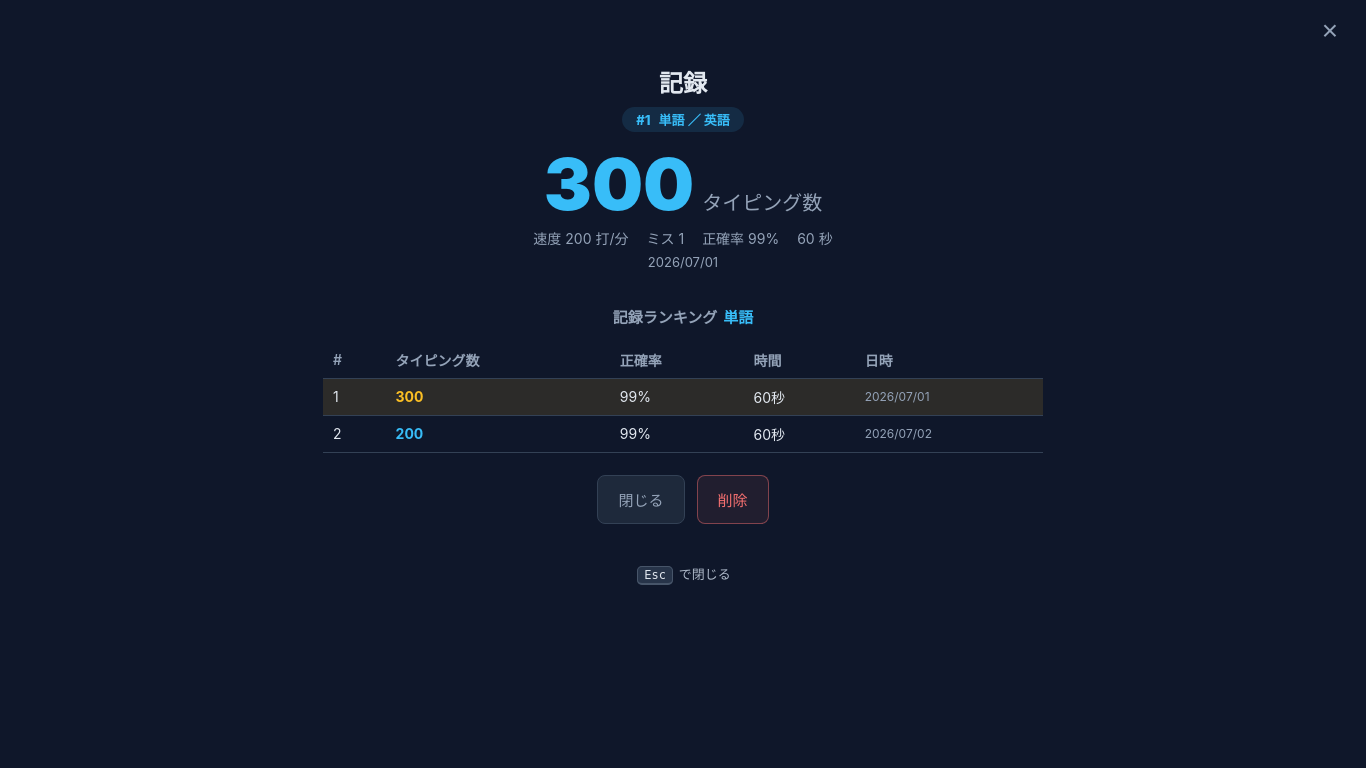
Test: RecordDetail：削除の2段階確認 › 「やめる」で確認状態から抜けられる
Click the button with aria-label "この記録を削除する": (732, 499) [696, 475, 768, 524]
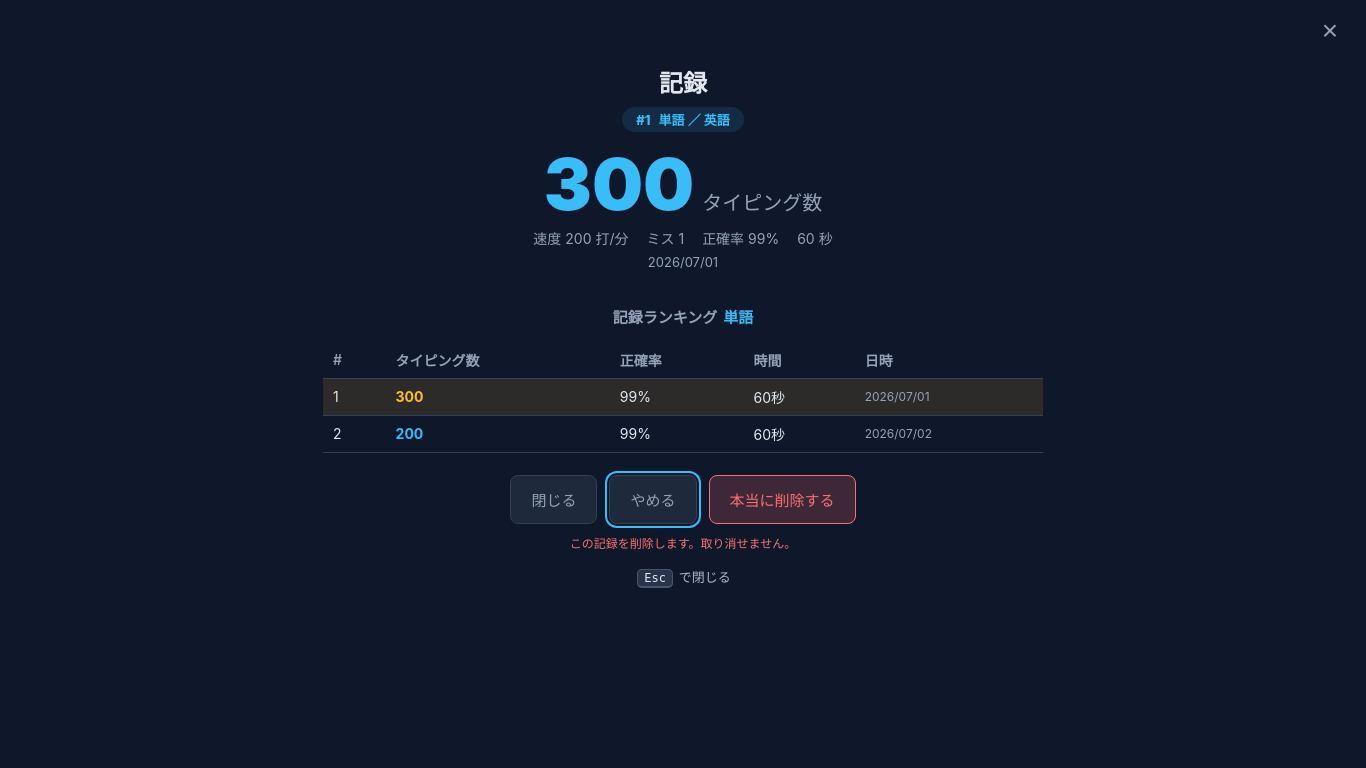
Click the button "やめる": (653, 499) [610, 475, 696, 524]
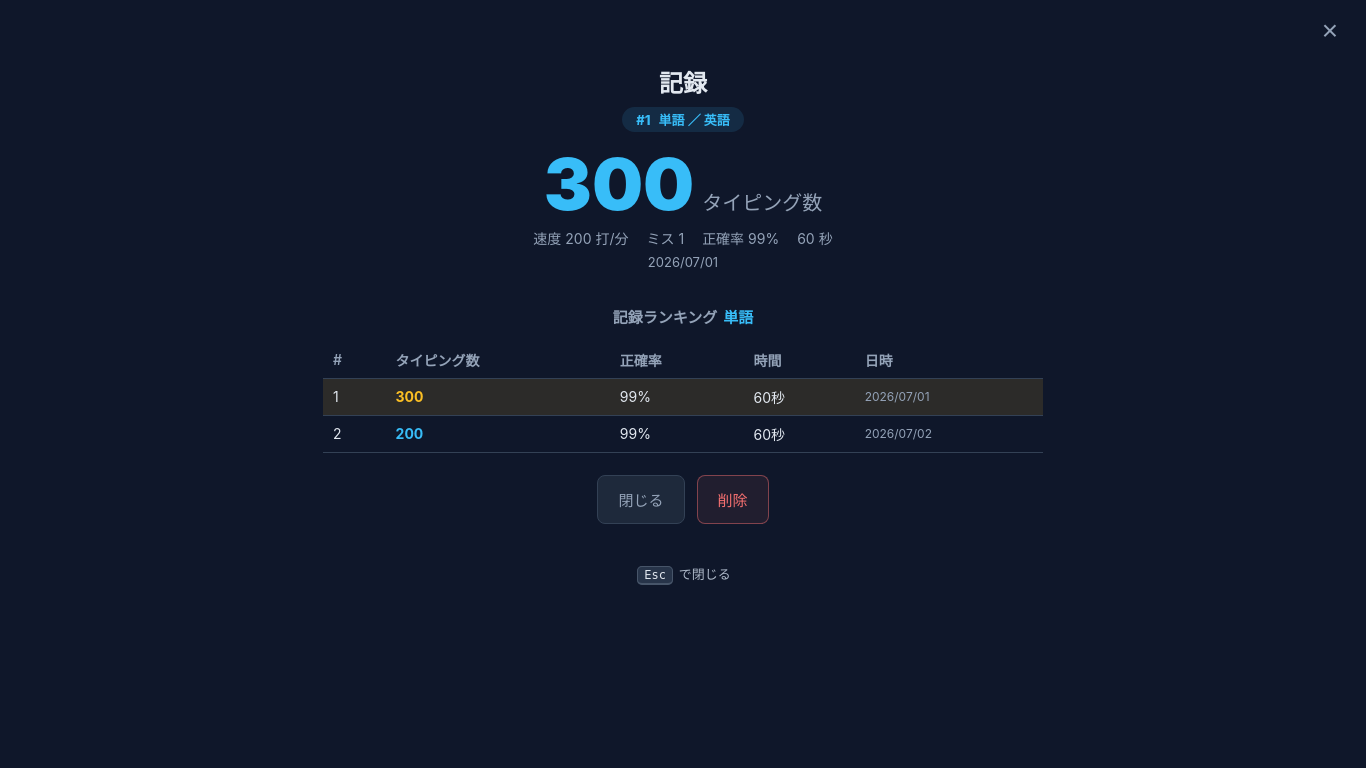
Expected: the button "本当に削除する" is gone
Expected: the button with aria-label "この記録を削除する" is shown, [696, 475, 768, 524]
